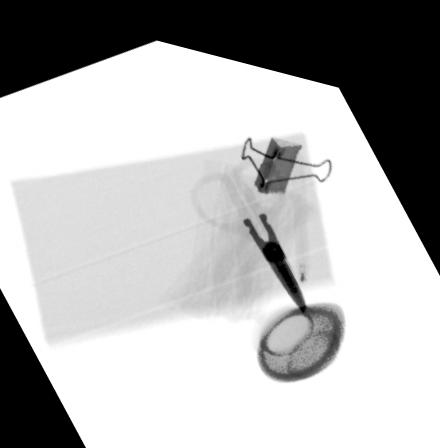Scissors: (193, 146, 315, 312)
